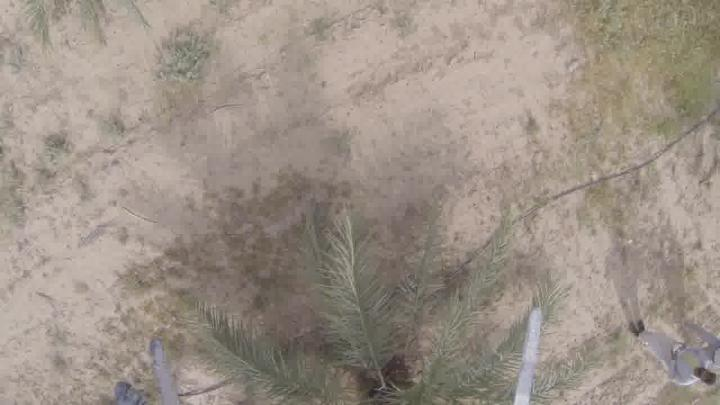Date-Palm-Crown: (314, 320, 468, 404)
